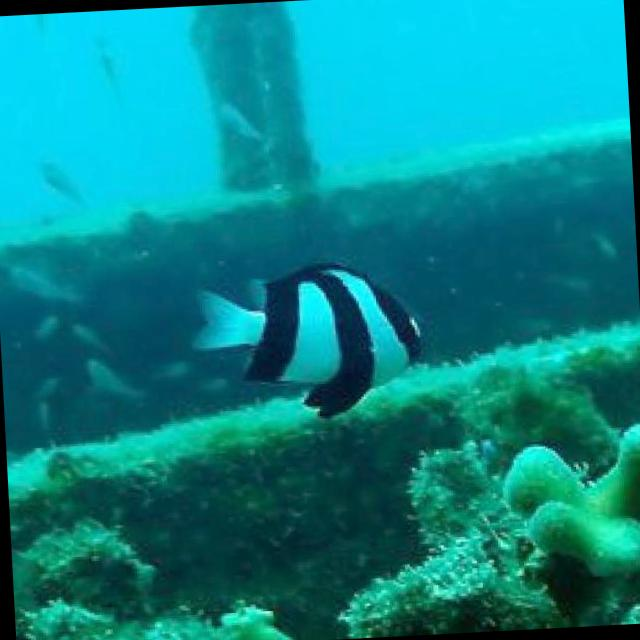Three_striped DasmselFish: (194, 253, 429, 432)
